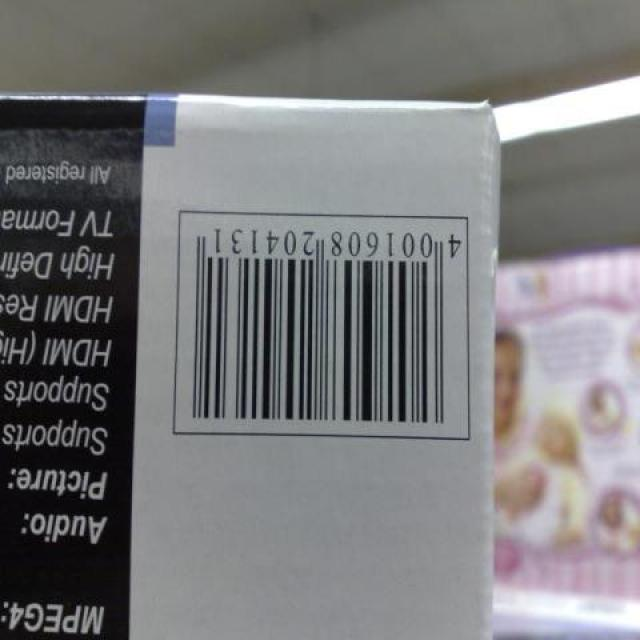Barcode: (174, 209, 470, 439)
